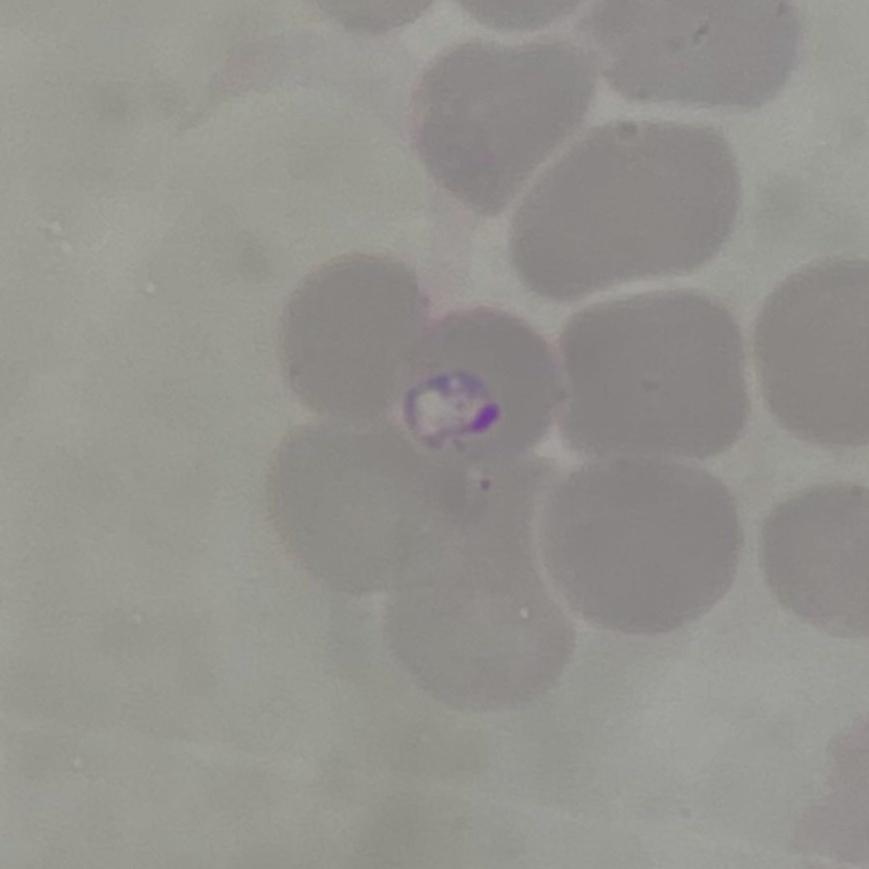Infected: (398, 302, 556, 466)
Uninfected: (507, 114, 742, 302), (533, 454, 742, 635), (270, 412, 469, 590), (547, 289, 752, 459), (410, 30, 593, 215), (387, 534, 574, 707), (278, 249, 416, 415), (755, 252, 869, 448), (760, 482, 869, 636)
